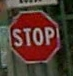stop: (8, 10, 61, 63)
